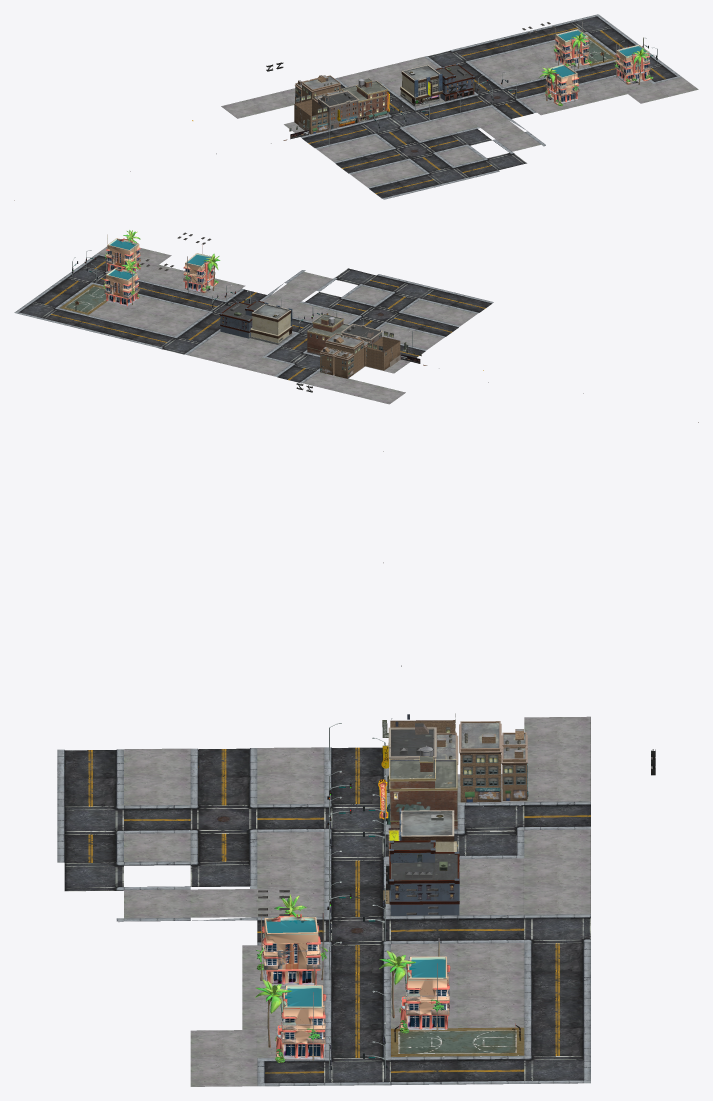
Rendered from miamilow.glb.
3 views of the same model, one above another, from view 1: azimuth 30°, elevation 25°; view 2: azimuth 150°, elevation 25°; view 3: azimuth 270°, elevation 25° (orthographic). The views are drawn at different scales.
Parts seen in each view (by area): view 1: BD_ConcreteBlock1_RoadsGround_0, pCube23_FillerBuildings1_0, pasted__loftedSurface3_Pawnshop_0, Mesh_0.001, Mesh_0.002, pCube4_Paramount_0, Mesh_0, pasted__BD_ConcreteBlock1_RoadsGround_0.005, pasted__BD_ConcreteBlock1_RoadsGround_0.009, pasted__BD_ConcreteBlock1_RoadsGround_0.003, pasted__BD_ConcreteBlock1_RoadsGround_0.001, LM_Basketball9_Basketball_0 (+3 smaller); view 2: BD_ConcreteBlock1_RoadsGround_0, pCube23_FillerBuildings1_0, pasted__loftedSurface3_Pawnshop_0, Mesh_0, Mesh_0.002, Mesh_0.001, pCube4_Paramount_0, LM_Basketball9_Basketball_0, pasted__BD_ConcreteBlock1_RoadsGround_0.001, pasted__BD_ConcreteBlock1_RoadsGround_0.003, pasted__BD_ConcreteBlock1_RoadsGround_0.005, pasted__BD_ConcreteBlock1_RoadsGround_0.004 (+3 smaller); view 3: BD_ConcreteBlock1_RoadsGround_0, pCube23_FillerBuildings1_0, Mesh_0.002, Mesh_0.001, Mesh_0, pCube4_Paramount_0, LM_Basketball9_Basketball_0, pasted__loftedSurface3_Pawnshop_0, pasted__BD_ConcreteBlock1_RoadsGround_0.005, pasted__BD_ConcreteBlock1_RoadsGround_0.003, pasted__BD_ConcreteBlock1_RoadsGround_0.006, pasted__BD_ConcreteBlock1_RoadsGround_0.001 (+1 smaller).
Part boxes in pixels (x1=…): BD_ConcreteBlock1_RoadsGround_0: x1=284, y1=14, x2=698, y2=199; pCube23_FillerBuildings1_0: x1=266, y1=62, x2=475, y2=143; pasted__loftedSurface3_Pawnshop_0: x1=400, y1=65, x2=442, y2=106; Mesh_0.001: x1=614, y1=37, x2=653, y2=84; Mesh_0.002: x1=539, y1=56, x2=579, y2=106; pCube4_Paramount_0: x1=341, y1=78, x2=389, y2=122; Mesh_0: x1=553, y1=22, x2=592, y2=68; pasted__BD_ConcreteBlock1_RoadsGround_0.005: x1=221, y1=99, x2=266, y2=118; pasted__BD_ConcreteBlock1_RoadsGround_0.009: x1=582, y1=81, x2=627, y2=100; pasted__BD_ConcreteBlock1_RoadsGround_0.003: x1=250, y1=92, x2=294, y2=111; pasted__BD_ConcreteBlock1_RoadsGround_0.001: x1=487, y1=67, x2=531, y2=87; LM_Basketball9_Basketball_0: x1=585, y1=34, x2=617, y2=65; BD_ConcreteBlock1_RoadsGround_0: x1=14, y1=246, x2=493, y2=383; pCube23_FillerBuildings1_0: x1=219, y1=300, x2=439, y2=392; pasted__loftedSurface3_Pawnshop_0: x1=250, y1=302, x2=292, y2=344; Mesh_0: x1=103, y1=259, x2=139, y2=305; Mesh_0.002: x1=183, y1=245, x2=220, y2=292; Mesh_0.001: x1=105, y1=230, x2=141, y2=272; pCube4_Paramount_0: x1=307, y1=313, x2=350, y2=355; LM_Basketball9_Basketball_0: x1=60, y1=280, x2=107, y2=314; pasted__BD_ConcreteBlock1_RoadsGround_0.001: x1=163, y1=305, x2=207, y2=324; pasted__BD_ConcreteBlock1_RoadsGround_0.003: x1=332, y1=378, x2=376, y2=397; pasted__BD_ConcreteBlock1_RoadsGround_0.005: x1=361, y1=385, x2=405, y2=404; pasted__BD_ConcreteBlock1_RoadsGround_0.004: x1=134, y1=298, x2=178, y2=316; BD_ConcreteBlock1_RoadsGround_0: x1=57, y1=747, x2=590, y2=1086; pCube23_FillerBuildings1_0: x1=382, y1=713, x2=655, y2=915; Mesh_0.002: x1=256, y1=894, x2=327, y2=987; Mesh_0.001: x1=255, y1=966, x2=326, y2=1062; Mesh_0: x1=379, y1=938, x2=450, y2=1033; pCube4_Paramount_0: x1=378, y1=745, x2=457, y2=830; LM_Basketball9_Basketball_0: x1=391, y1=1023, x2=524, y2=1056; pasted__loftedSurface3_Pawnshop_0: x1=388, y1=808, x2=456, y2=851; pasted__BD_ConcreteBlock1_RoadsGround_0.005: x1=524, y1=716, x2=590, y2=745; pasted__BD_ConcreteBlock1_RoadsGround_0.003: x1=527, y1=745, x2=590, y2=773; pasted__BD_ConcreteBlock1_RoadsGround_0.006: x1=524, y1=773, x2=590, y2=801; pasted__BD_ConcreteBlock1_RoadsGround_0.001: x1=391, y1=943, x2=457, y2=972.
Bounding box in the file's own units: 194 × 12.92 × 79.26.
19 materials, 15 textured.
